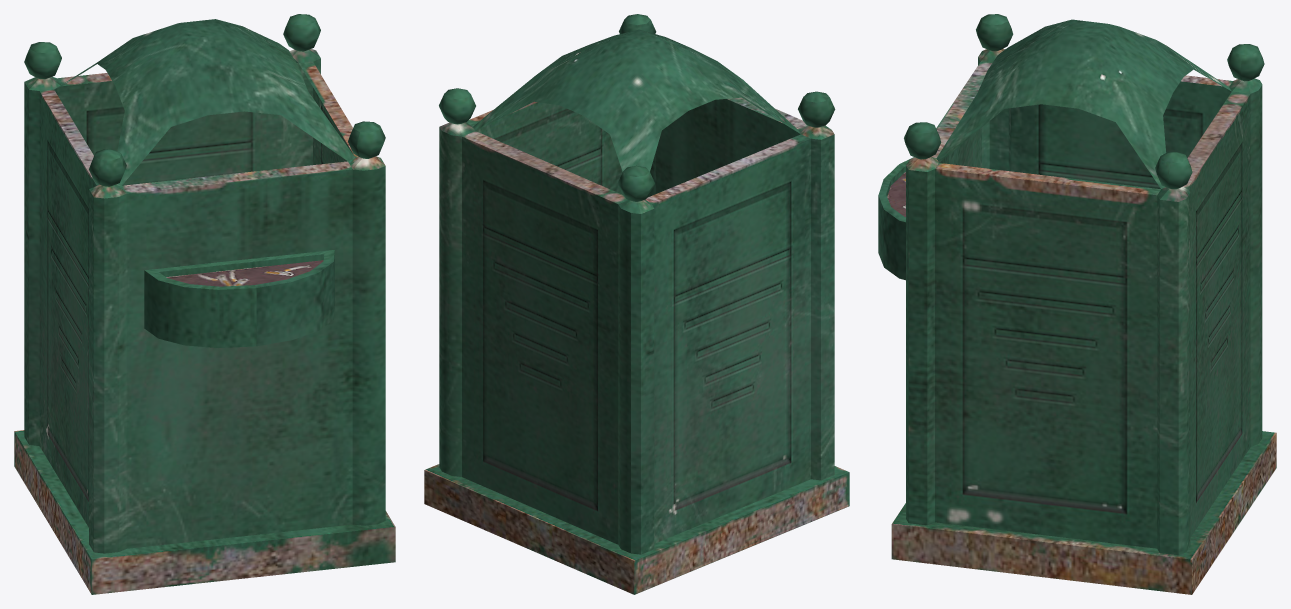
File: TrashCan.FBX
3 renders of one model, left to right at view 1: azimuth 30°, elevation 25°; view 2: azimuth 150°, elevation 25°; view 3: azimuth 270°, elevation 25°, orthographic. The views are drawn at different scales.
Parts seen in each view (by area): view 1: TrashcanPoly; view 2: TrashcanPoly; view 3: TrashcanPoly.
Part boxes in pixels (x1,y1,x2,y2): TrashcanPoly: [14, 14, 395, 594]; TrashcanPoly: [424, 14, 849, 594]; TrashcanPoly: [878, 14, 1276, 594].
Size of what is drawn, in the model's own units: 85.35 by 118 by 88.31.
